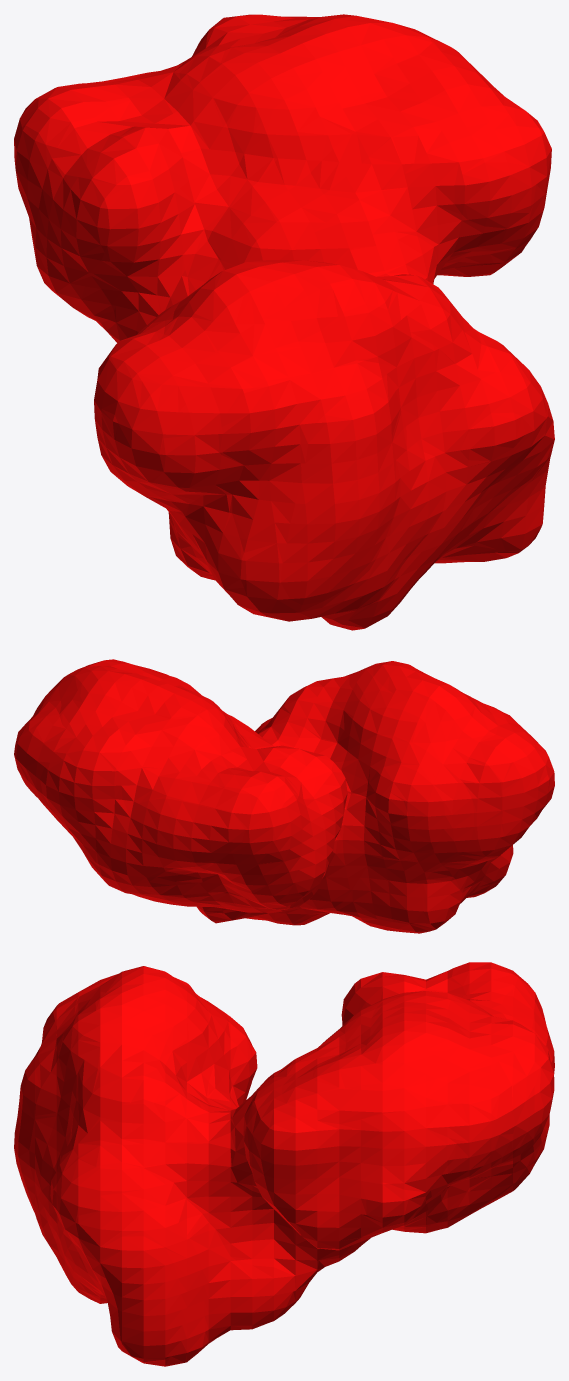
The model's file is rapZ_coarse.dae.
3 renders of one model, top to bottom at view 1: azimuth 30°, elevation 25°; view 2: azimuth 150°, elevation 25°; view 3: azimuth 270°, elevation 25°, orthographic. The views are drawn at different scales.
Visible parts, largest first — view 1: rapZ; view 2: rapZ; view 3: rapZ.
Boxes of the visible parts, box(x1,y1,x2,y2) form: rapZ: box(14, 14, 554, 630); rapZ: box(14, 659, 554, 933); rapZ: box(14, 962, 554, 1366).
Bounding box in the file's own units: 61.5 × 45.45 × 63.6.
